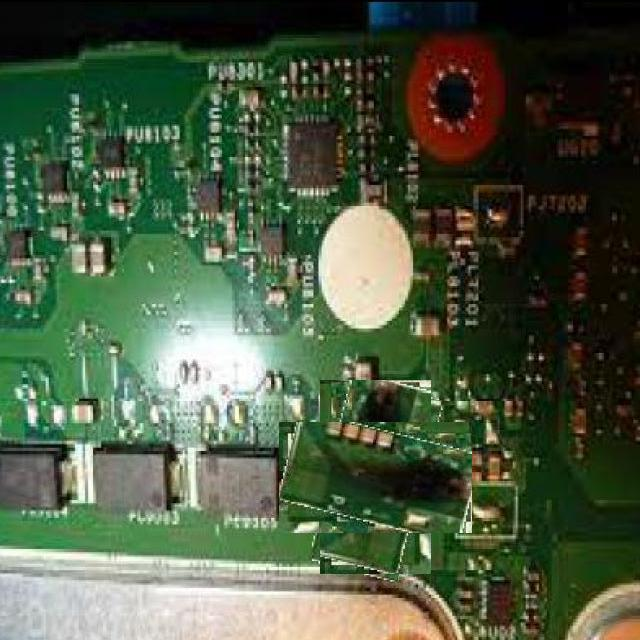damged: (299, 401, 452, 554)
